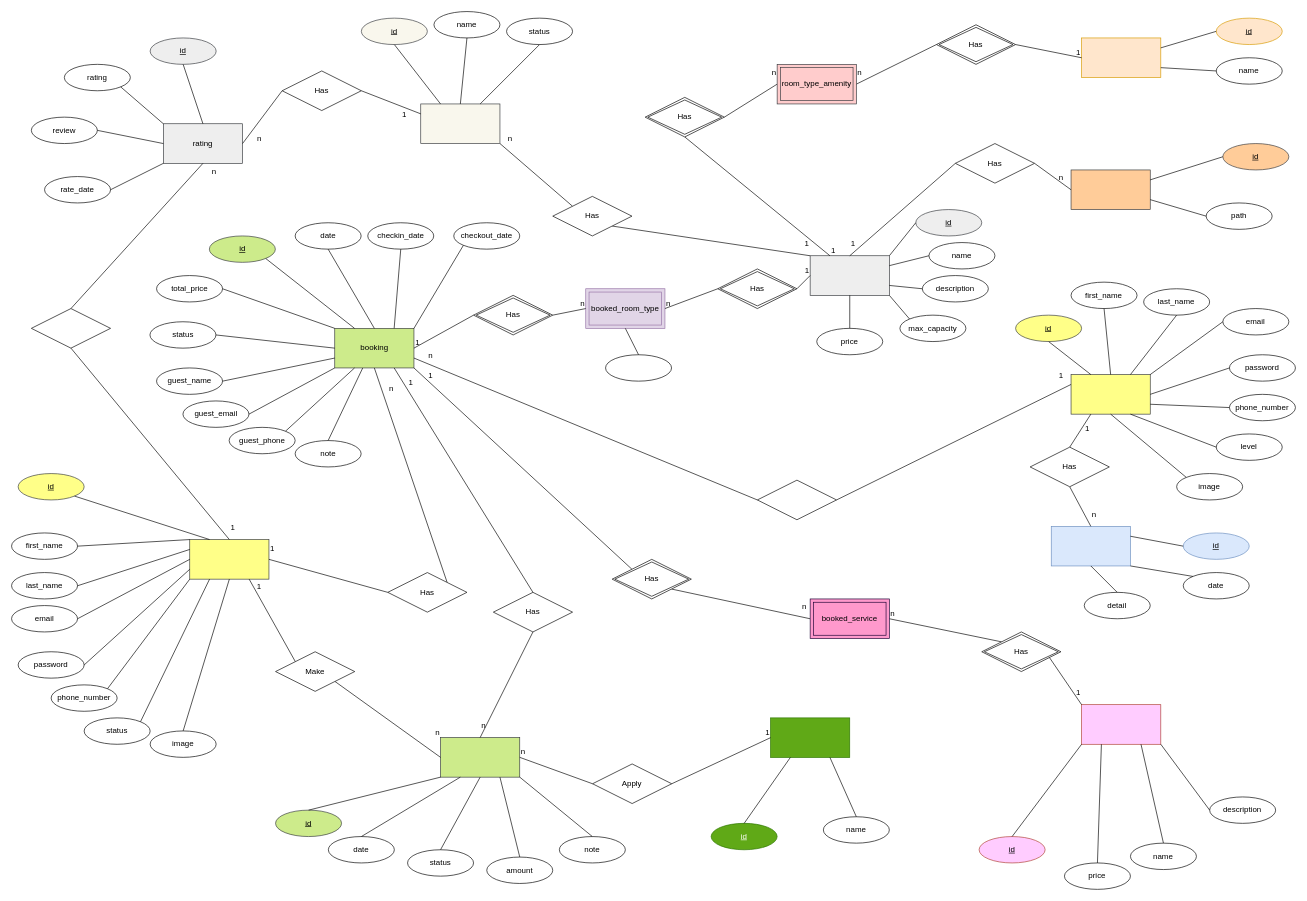
Image size: 1307x901. Some labels were removed from this diagram. Each missing label, with the centre of its shape:
"activity" belongs at point 1090,546.
"admin" belongs at point 1110,394.
"amenity" belongs at point 1121,57.
"guest" belongs at point 229,559.
"Leave" belongs at point 71,328.
"Manage" belongs at point 797,499.
"number_of_room" belongs at point 638,367.
"payment" belongs at point 480,757.
"payment_method" belongs at point 810,737.
"room" belongs at point 460,123.
"room_type" belongs at point 849,275.
"room_type_image" belongs at point 1110,189.
"service" belongs at point 1121,724.
